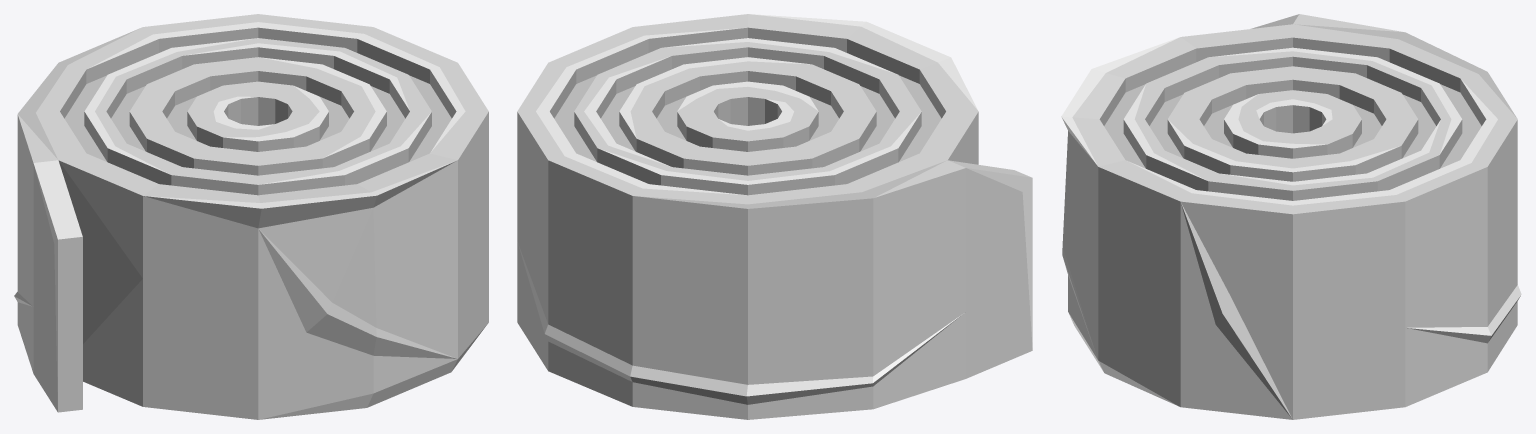
Rendered from mesh_bandages.fbx.
3 renders of one model, left to right at view 1: azimuth 30°, elevation 25°; view 2: azimuth 150°, elevation 25°; view 3: azimuth 270°, elevation 25°, orthographic. The views are drawn at different scales.
Parts seen in each view (by area): view 1: mesh_bandages; view 2: mesh_bandages; view 3: mesh_bandages.
Boxes of the visible parts, bbox=[...] form: mesh_bandages: bbox=[14, 14, 488, 419]; mesh_bandages: bbox=[517, 14, 1032, 419]; mesh_bandages: bbox=[1061, 14, 1521, 419].
Bounding box in the file's own units: 0.2044 × 0.0955 × 0.189.
